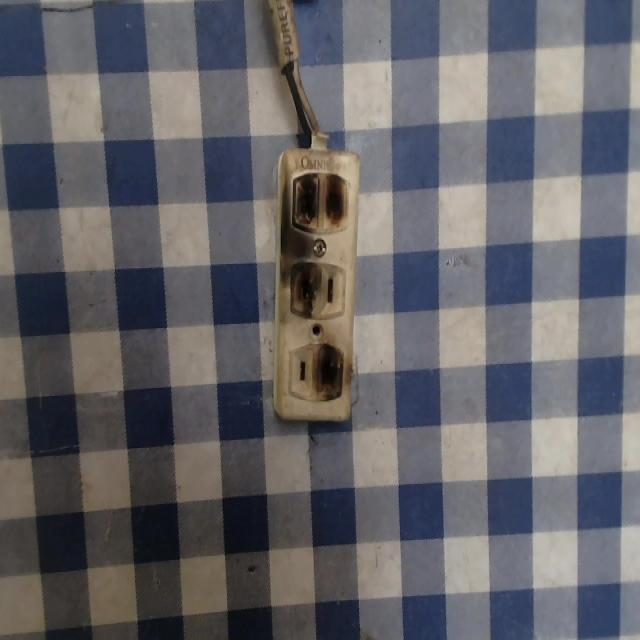-: (285, 160, 357, 237), (284, 254, 324, 314), (309, 342, 349, 402)
